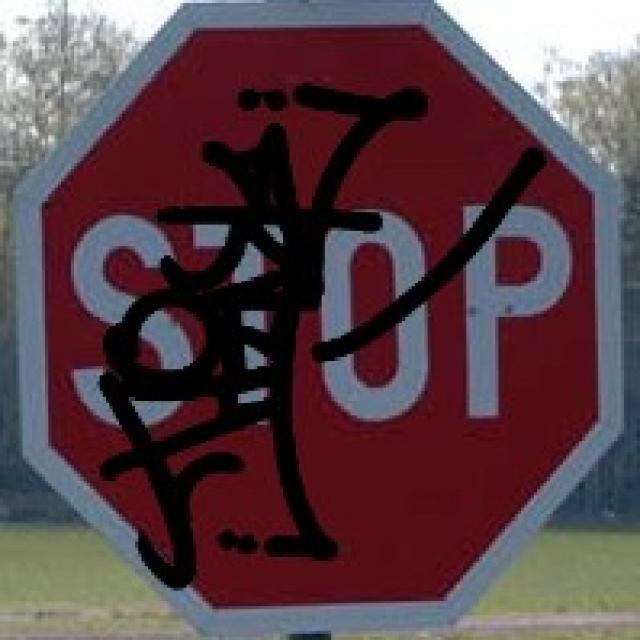Stop-Sign: (76, 54, 564, 522)
